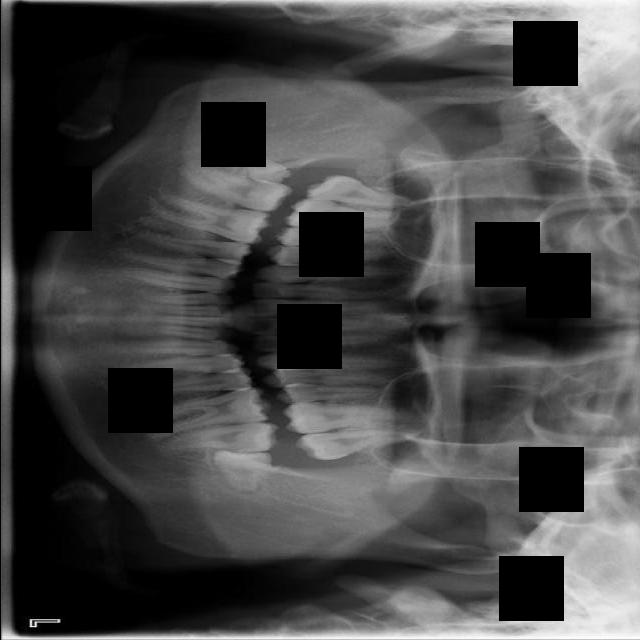73: (22, 618, 28, 626)
BioHorizons Implant: (294, 423, 417, 465)
Biomet 3i Implant: (211, 450, 273, 494)
Blue Sky Bio Implant: (157, 422, 278, 454)
Caries: (305, 172, 415, 214)
Implant: (176, 161, 293, 218)
Keystone Dental Implant: (239, 154, 292, 191)
